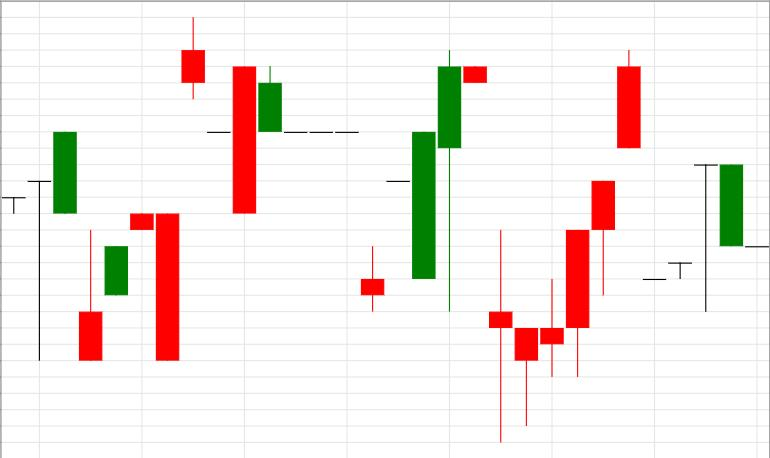hanging_man_fall: (514, 180, 615, 426)
